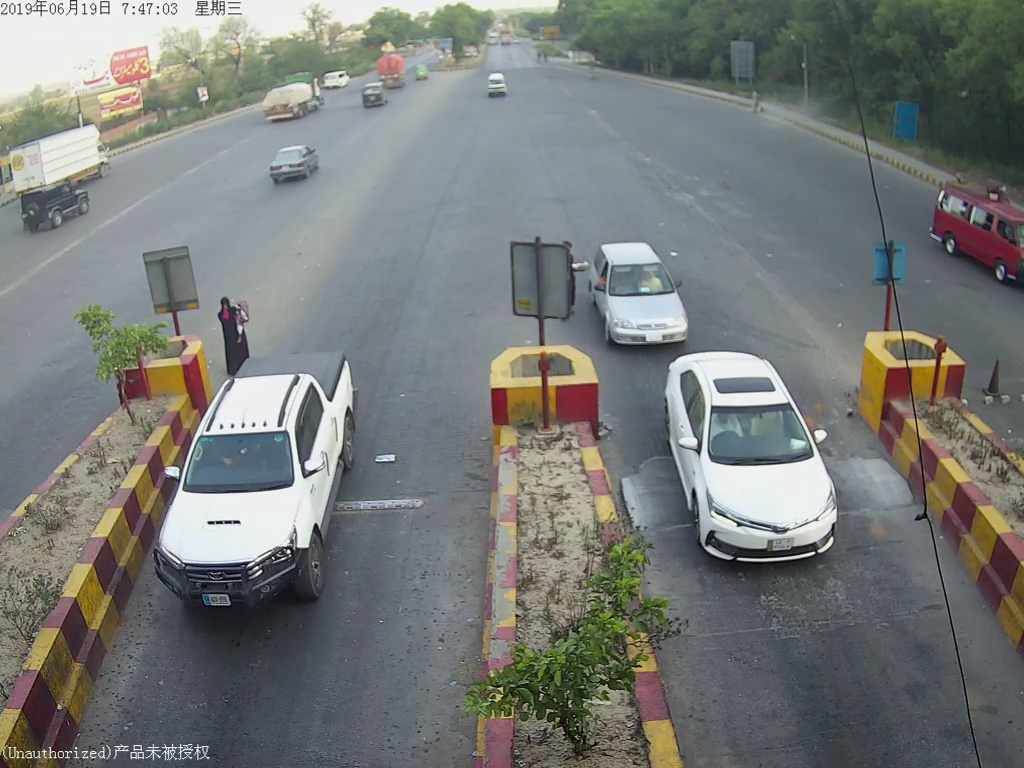Cat-1: (153, 343, 361, 610), (660, 347, 844, 567), (586, 234, 693, 351)
